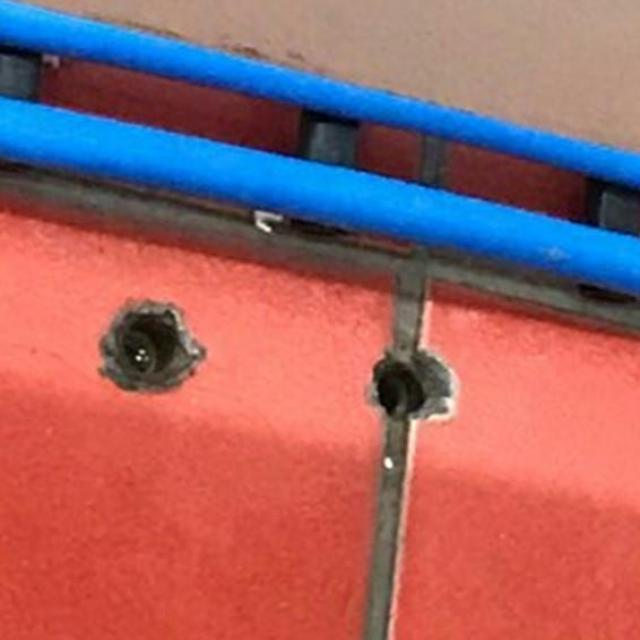hidden camera: (372, 374, 408, 412), (120, 333, 150, 371)
